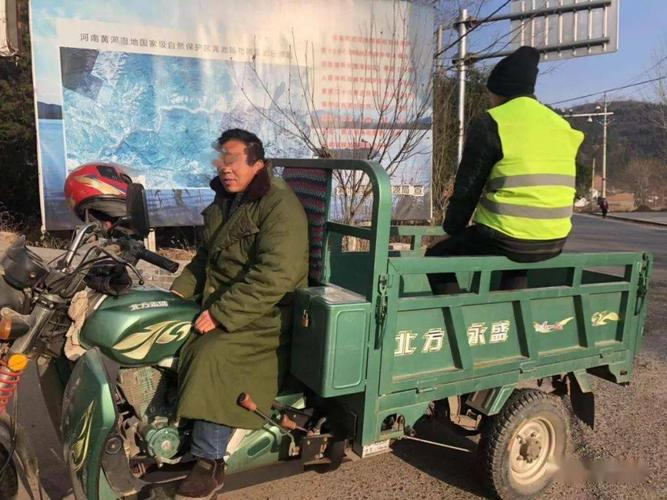driver: (161, 119, 295, 478)
overloading: (95, 35, 628, 499)
passenger: (437, 42, 597, 273)
